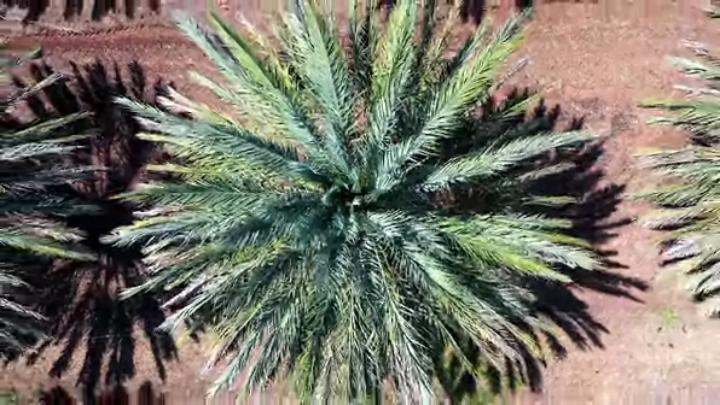Date-Palm-Crown: (248, 94, 460, 294)
